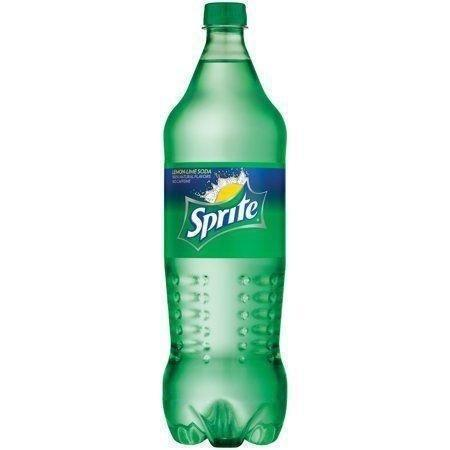bottle-plastic: (158, 0, 293, 449)
